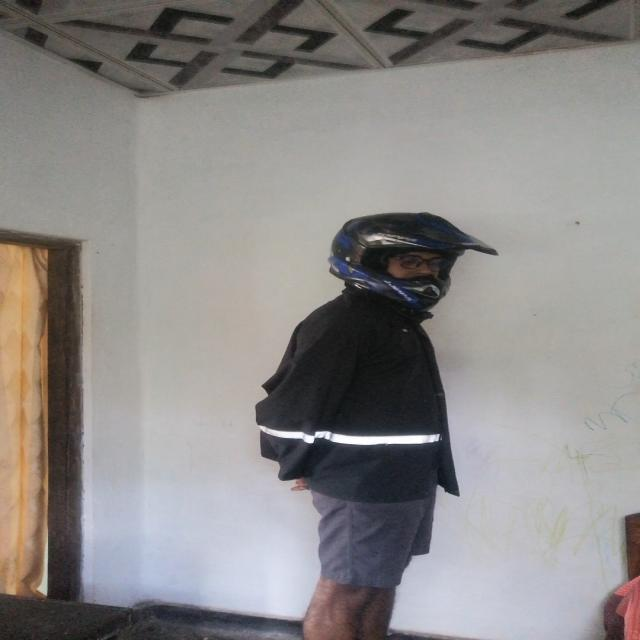Helmet_Wearer: (318, 207, 496, 313)
Jacket_Wearer: (255, 274, 468, 498)
Person: (250, 208, 476, 640)
